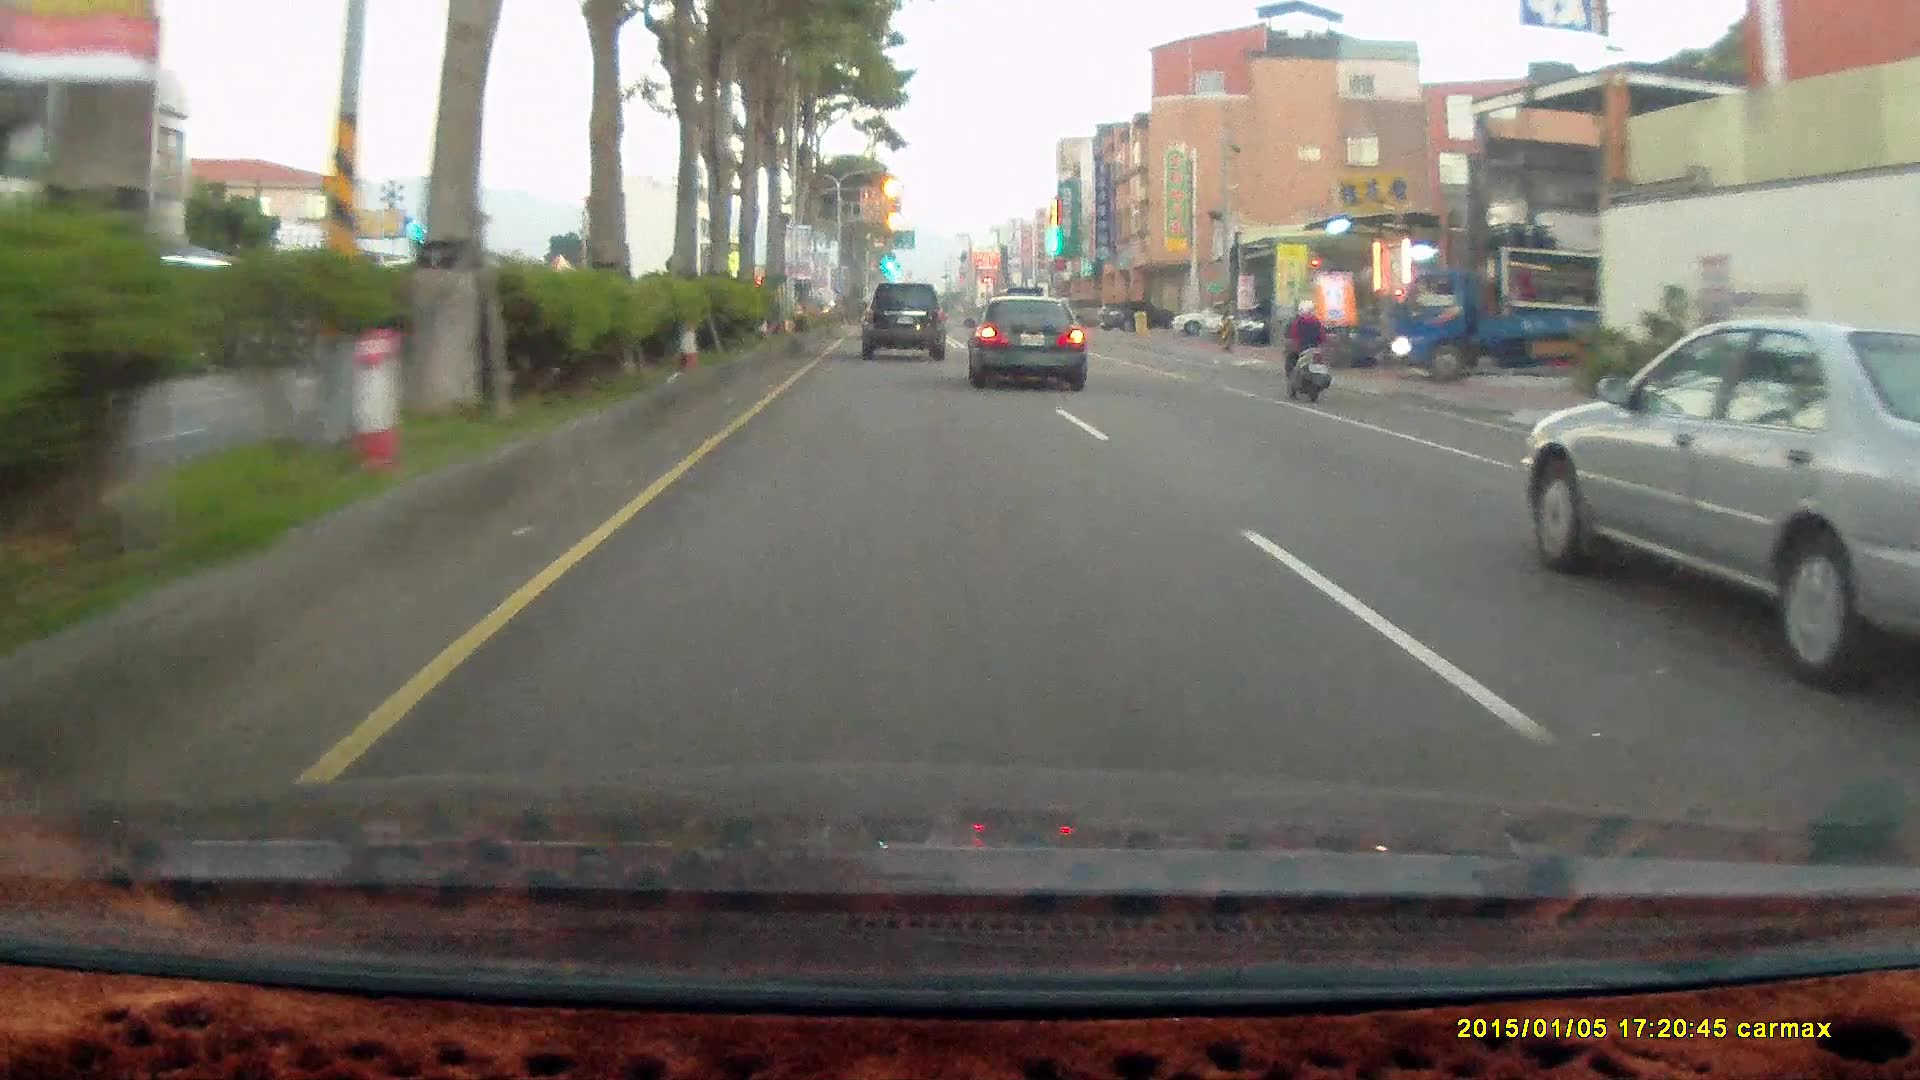rider: (1269, 287, 1343, 412), (1277, 296, 1335, 401)
vehicle: (1520, 318, 1920, 686), (1392, 245, 1603, 384), (1389, 269, 1636, 383), (961, 292, 1086, 390), (973, 295, 1094, 386), (860, 281, 951, 358), (858, 282, 946, 360), (1238, 299, 1323, 347), (1170, 302, 1252, 336), (1099, 300, 1171, 332)
